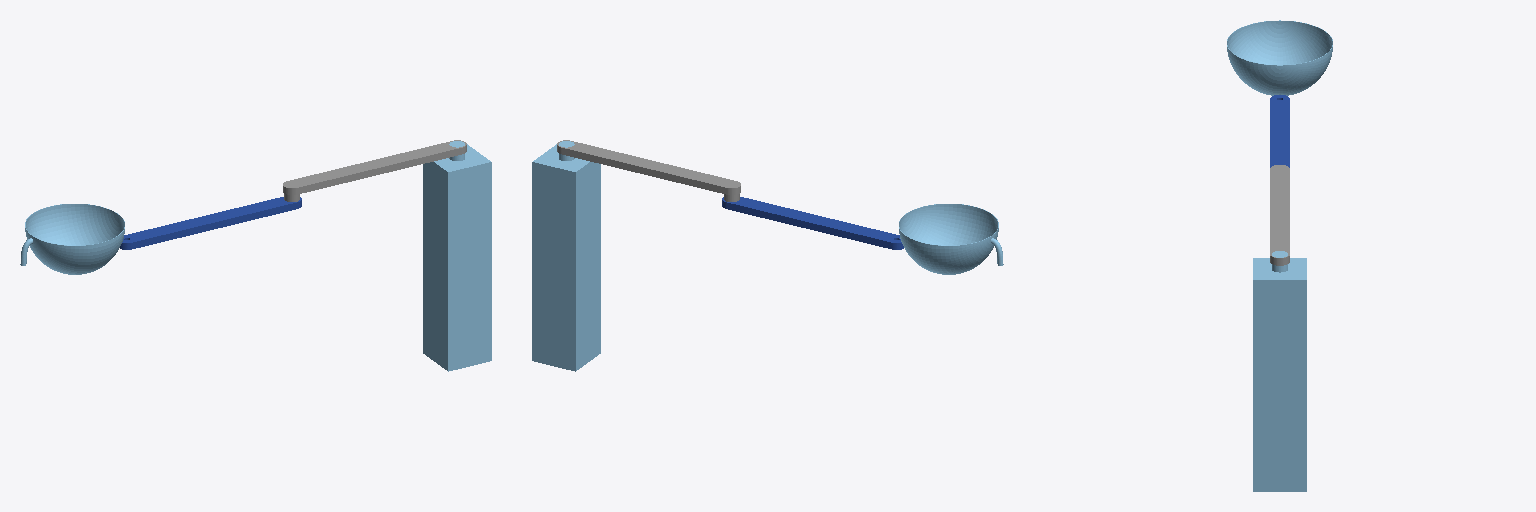
URDF robot description (cup_manipulator):
<?xml version="1.0" ?>
<!-- Generated using onshape-to-robot -->
<!-- Onshape https://cad.onshape.com/documents/02830e503a1c2626d58e0780/w/62db7934caa01effe231f1a9/e/403997dc9b8865e58fc05acd -->
<robot name="cup_manipulator">
  <!-- Link base_mount_manipulator -->
  <link name="base_mount_manipulator">
    <inertial>
      <origin xyz="-4.36314e-19 -3.04031e-18 0.553261" rpy="0 0 0"/>
      <mass value="542.696"/>
      <inertia ixx="58.2669" ixy="-1.00642e-16" ixz="4.10907e-16" iyy="58.2669" iyz="2.02826e-15" izz="5.62415"/>
    </inertial>
    <!-- Part base_mount_manipulator -->
    <visual>
      <origin xyz="0 -2.77556e-17 0" rpy="0 -0 0"/>
      <geometry>
        <mesh filename="package://assets/base_mount_manipulator.obj"/>
      </geometry>
      <material name="base_mount_manipulator_material">
        <color rgba="0.615686 0.811765 0.929412 1"/>
      </material>
    </visual>
    <collision>
      <origin xyz="0 -2.77556e-17 0" rpy="0 -0 0"/>
      <geometry>
        <mesh filename="package://assets/base_mount_manipulator.obj"/>
      </geometry>
    </collision>
  </link>
  <!-- Link link1 -->
  <link name="link1">
    <inertial>
      <origin xyz="-0.549225 5.09487e-18 0.0251674" rpy="0 0 0"/>
      <mass value="2.10"/>
      <inertia ixx="0.0170" ixy="0" ixz="0" iyy="0.0170" iyz="0" izz="0.0026"/>
    </inertial>
    <!-- Part link1 -->
    <visual>
      <origin xyz="0 2.44929e-18 1.21437" rpy="3.14159 -0 0"/>
      <geometry>
        <mesh filename="package://assets/link1.obj"/>
      </geometry>
      <material name="link1_material">
        <color rgba="0.647059 0.647059 0.647059 1"/>
      </material>
    </visual>
    <collision>
      <origin xyz="0 2.44929e-18 1.21437" rpy="3.14159 -0 0"/>
      <geometry>
        <mesh filename="package://assets/link1.obj"/>
      </geometry>
    </collision>
  </link>
  <!-- Link link2 -->
  <link name="link2">
    <inertial>
      <origin xyz="-0.499172 -1.13183e-17 -0.0190625" rpy="0 0 0"/>
      <mass value="1.70"/>
      <inertia ixx="0.0105" ixy="0" ixz="0" iyy="0.0105" iyz="0" izz="0.0017"/>
    </inertial>
    <!-- Part cup -->
    <visual>
      <origin xyz="-1.2545 -2.44929e-18 -0.188125" rpy="3.14159 -0 0"/>
      <geometry>
        <mesh filename="package://assets/cup.obj"/>
      </geometry>
      <material name="cup_material">
        <color rgba="0.615686 0.811765 0.929412 1"/>
      </material>
    </visual>
    <!-- <collision>
      <origin xyz="-1.2545 -2.44929e-18 -0.188125" rpy="3.14159 -0 0"/>
      <geometry>
        <mesh filename="package://assets/cup.obj"/>
      </geometry>
    </collision> -->
    <!-- Part link2 -->
    <visual>
      <origin xyz="0.953 -2.44929e-18 1.05812" rpy="3.14159 -0 0"/>
      <geometry>
        <mesh filename="package://assets/link2.obj"/>
      </geometry>
      <material name="link2_material">
        <color rgba="0.231373 0.380392 0.705882 1"/>
      </material>
    </visual>
    <collision>
      <origin xyz="0.953 -2.44929e-18 1.05812" rpy="3.14159 -0 0"/>
      <geometry>
        <mesh filename="package://assets/link2.obj"/>
      </geometry>
    </collision>
    <!-- Part simple_ball -->
    <!-- <visual>
      <origin xyz="-1.2545 -3.02049e-17 -0.188125" rpy="3.14159 -0 0"/>
      <geometry>
        <mesh filename="package://assets/simple_ball.obj"/>
      </geometry>
      <material name="simple_ball_material">
        <color rgba="0.615686 0.811765 0.929412 1"/>
      </material>
    </visual> -->
    <collision>
      <origin xyz="-1.2545 -3.02049e-17 -0.188125" rpy="3.14159 -0 0"/>
      <geometry>
        <mesh filename="package://assets/simple_ball.obj"/>
      </geometry>
    </collision>
  </link>
  <!-- Joint from link1 to link2 -->
  <joint name="link2_link1" type="revolute">
    <origin xyz="-0.953 4.89859e-18 0.118125" rpy="0 -0 0"/>
    <parent link="link1"/>
    <child link="link2"/>
    <axis xyz="0 0 1"/>
    <limit effort="10" velocity="10" lower="-3.141592653589793" upper="3.141592653589793"/>
  </joint>
  <!-- Joint from base_mount_manipulator to link1 -->
  <joint name="link1_base" type="revolute">
    <origin xyz="0 -2.53063e-17 1.17625" rpy="3.14159 -0 0"/>
    <parent link="base_mount_manipulator"/>
    <child link="link1"/>
    <axis xyz="0 0 1"/>
    <limit effort="10" velocity="10" lower="-3.141592653589793" upper="3.141592653589793"/>
  </joint>
</robot>

--- Render facts (derived) ---
3 views of the same robot in one strip: view 1: azimuth 30°, elevation 25°; view 2: azimuth 150°, elevation 25°; view 3: azimuth 270°, elevation 25° (orthographic).
Robot: cup_manipulator — 3 links, 2 joints (2 revolute); root link base_mount_manipulator; default pose: all joints at 0.
Links seen in each view (by area): view 1: base_mount_manipulator, link2, link1; view 2: base_mount_manipulator, link2, link1; view 3: base_mount_manipulator, link2, link1.
Boxes of the visible links, bbox=[...] form: base_mount_manipulator: bbox=[423, 141, 491, 371]; link2: bbox=[20, 197, 301, 274]; link1: bbox=[283, 140, 466, 201]; base_mount_manipulator: bbox=[532, 141, 600, 371]; link2: bbox=[722, 197, 1003, 274]; link1: bbox=[557, 140, 740, 201]; base_mount_manipulator: bbox=[1253, 251, 1306, 491]; link2: bbox=[1227, 20, 1332, 167]; link1: bbox=[1270, 165, 1289, 265].
Size in the robot's own frame: 2.65 by 0.503 by 1.25 metres.
4 mesh visuals loaded from 4 distinct referenced files (4 OBJ).
